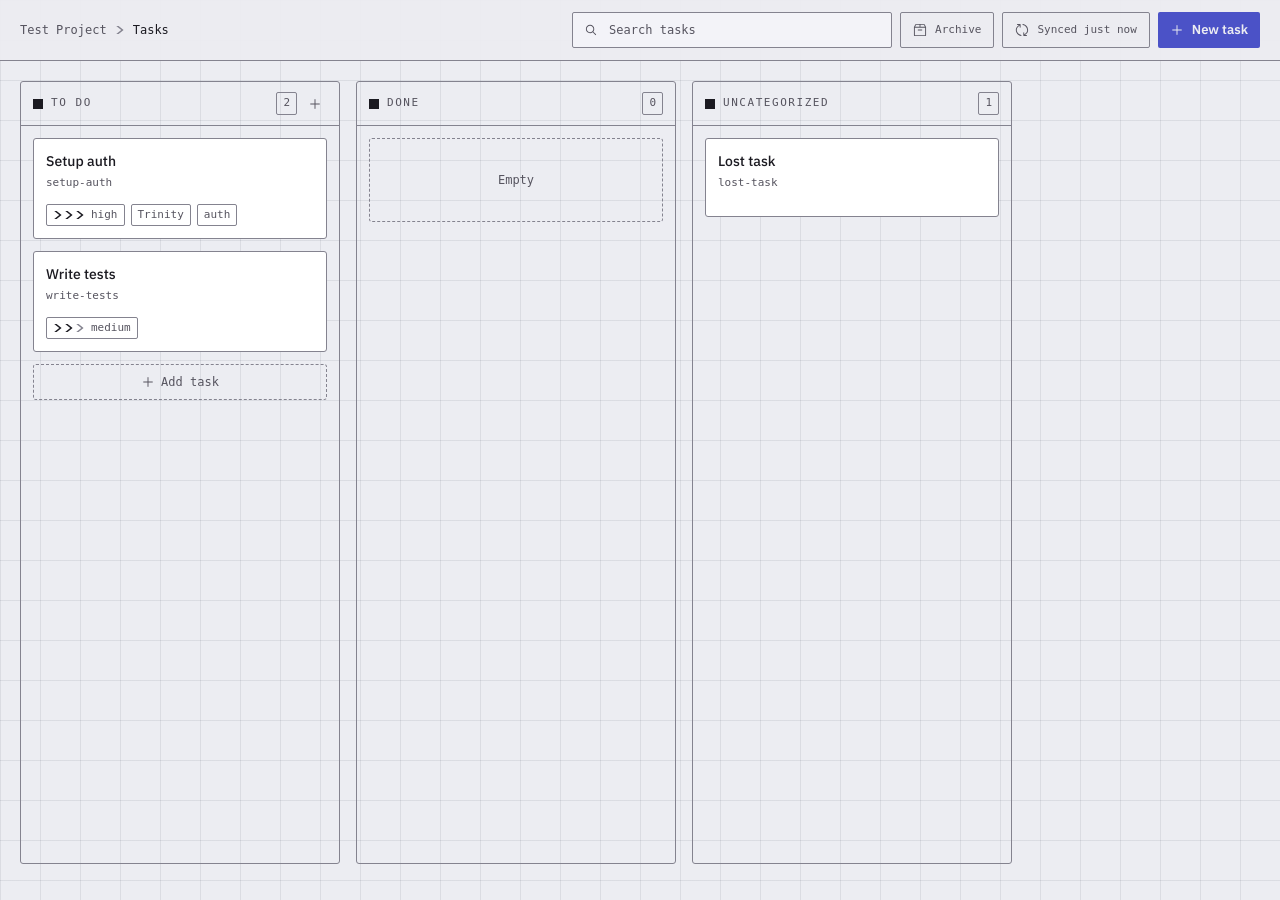
Scenario: Board › confirms and optimistically deletes a task update
What coordinates should you click on to do the following:
click the heading "Setup auth"
I would click on:
 (81, 161)
Its box is [46,152,116,170].
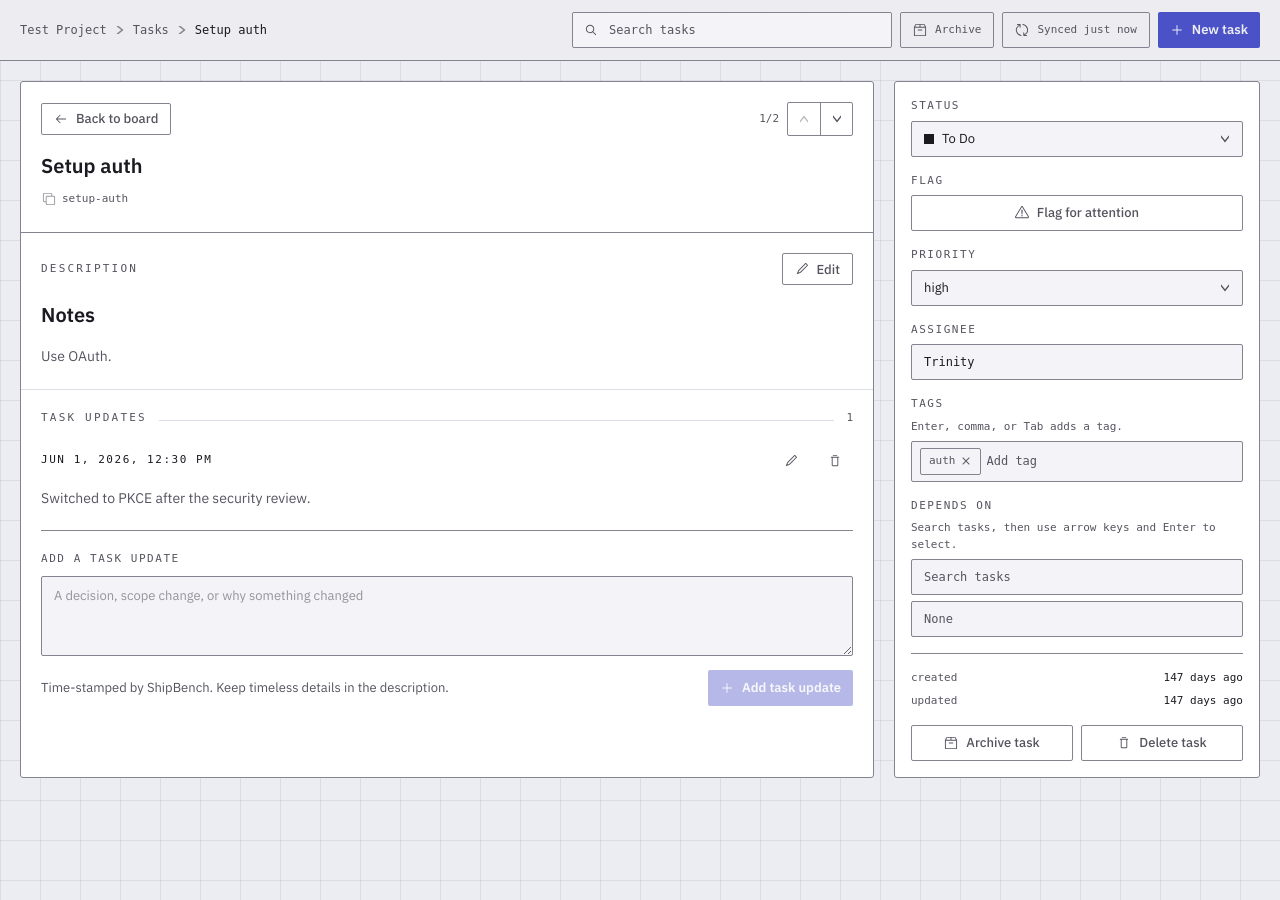
What coordinates should you click on to do the following:
click the button named "Delete task update 1"
I would click on:
 (835, 460)
Its box is [817,442,853,478].
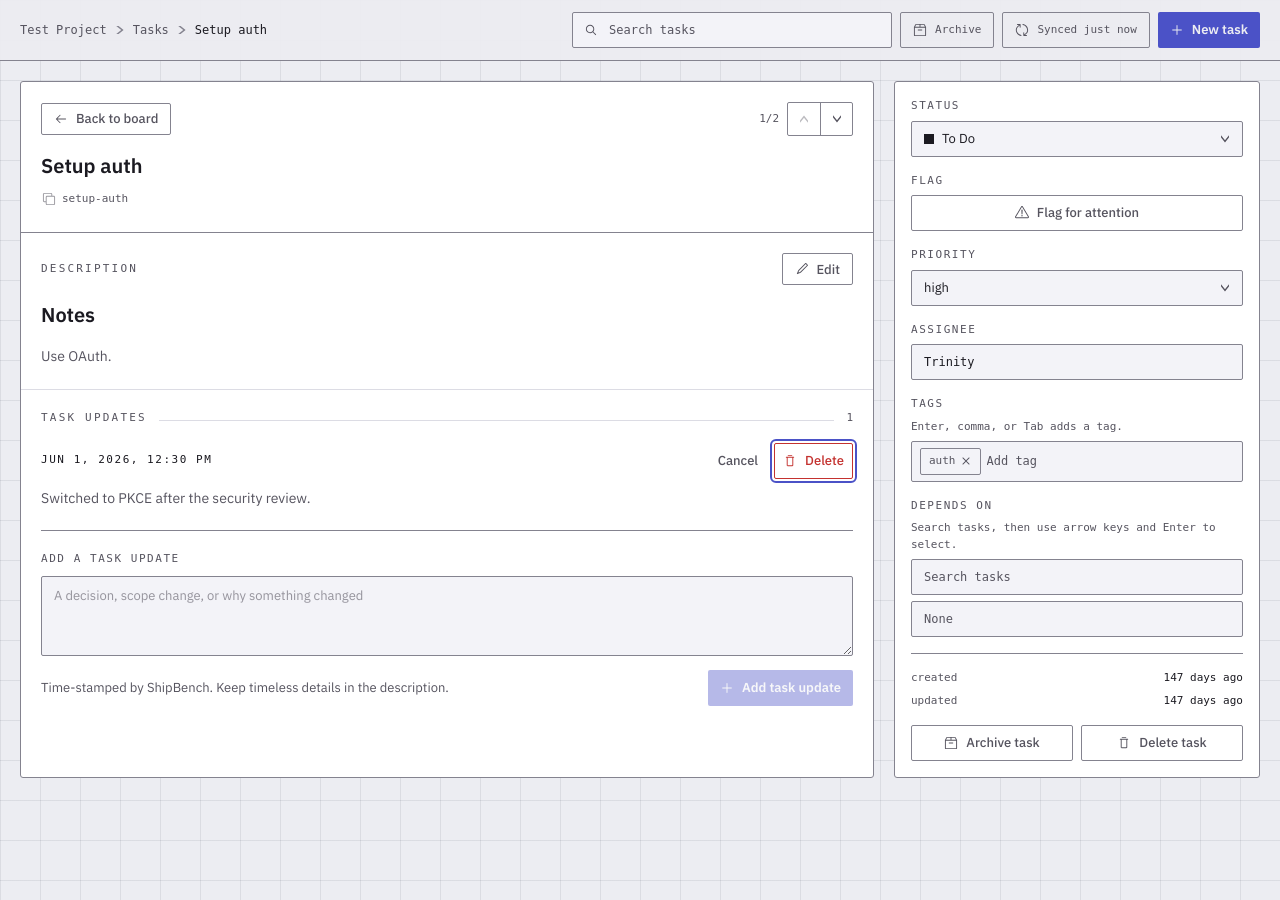
What coordinates should you click on to do the following:
click the button with aria-label "Confirm delete task update 1"
I would click on:
 (814, 460)
Its box is [774,442,853,478].
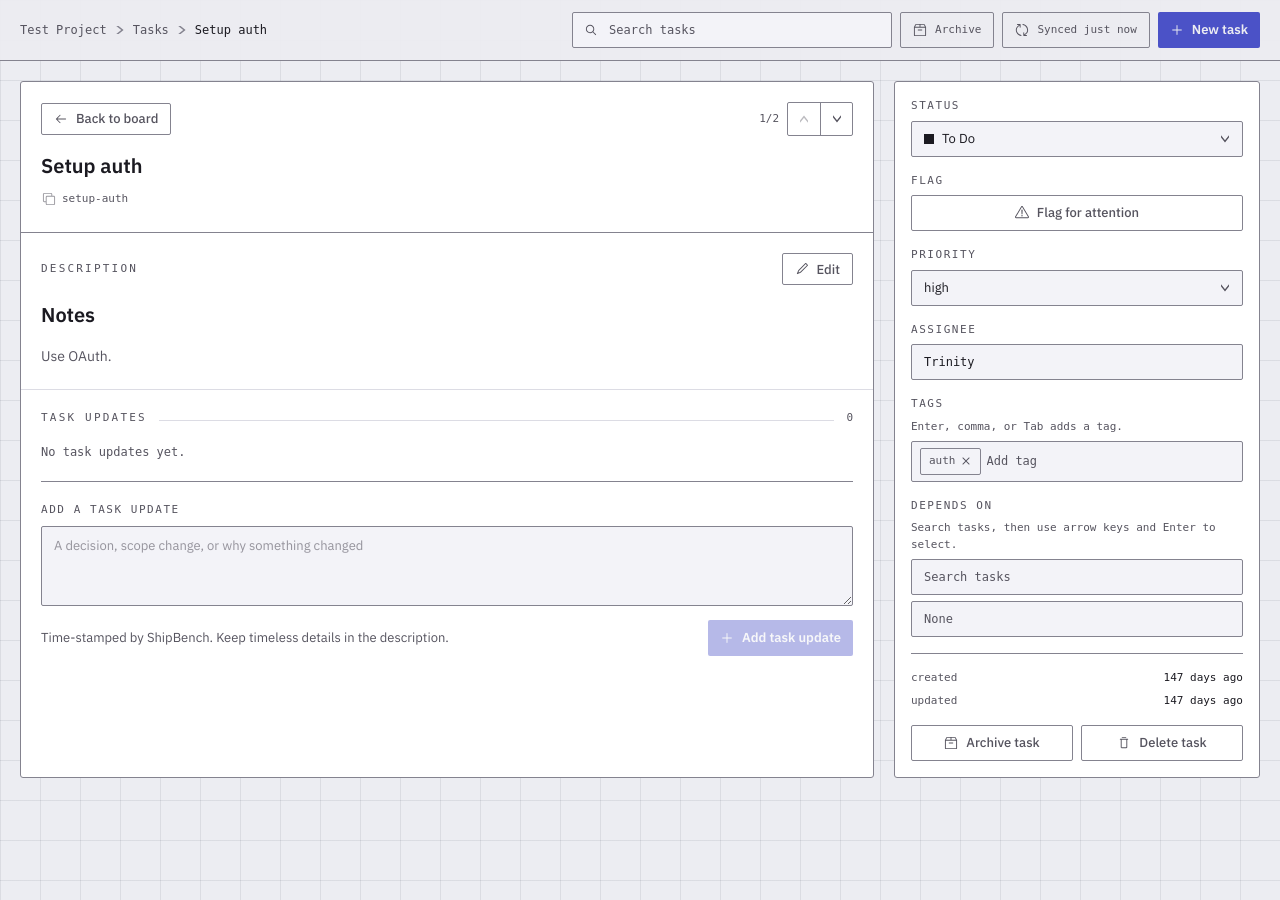
expect the text "Switched to PKCE after the security review." is gone: met
expect the text "No task updates yet." is shown: met, box [41,444,186,458]
